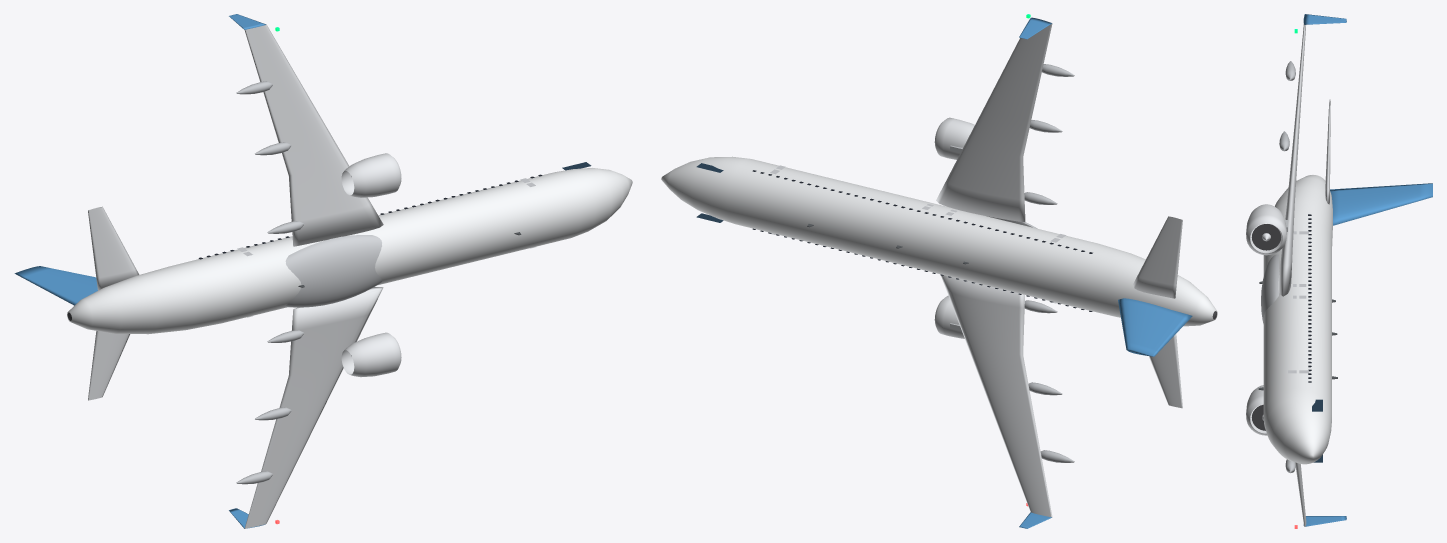
The picture shows the model from 3 angles, left to right: view 1: azimuth 30°, elevation 25°; view 2: azimuth 150°, elevation 25°; view 3: azimuth 270°, elevation 25°; orthographic projection.
Visible parts, largest first — view 1: Fuselage, Wing_R, Wing_L, BellyFairing, HStab_R, Nacelle_R, Nacelle_L, Tail_Fin, HStab_L; view 2: Fuselage, Wing_L, Wing_R, Tail_Fin, HStab_R, HStab_L, Nacelle_R, Nacelle_L; view 3: Fuselage, Tail_Fin, Wing_R, Nacelle_R, BellyFairing, Fan_R, Nacelle_L, HStab_R, Windows, Sharklet_R, Sharklet_L, Wing_L (+1 smaller).
Boxes of the visible parts, bbox=[...] form: Fuselage: bbox=[67, 168, 632, 334]; Wing_R: bbox=[244, 24, 383, 246]; Wing_L: bbox=[244, 287, 383, 528]; BellyFairing: bbox=[285, 235, 381, 307]; HStab_R: bbox=[88, 206, 139, 290]; Nacelle_R: bbox=[341, 153, 401, 197]; Nacelle_L: bbox=[341, 332, 401, 377]; Tail_Fin: bbox=[14, 266, 97, 305]; HStab_L: bbox=[88, 331, 130, 400]; Fuselage: bbox=[661, 156, 1217, 326]; Wing_L: bbox=[941, 275, 1052, 517]; Wing_R: bbox=[936, 23, 1052, 222]; Tail_Fin: bbox=[1118, 298, 1192, 356]; HStab_R: bbox=[1133, 216, 1182, 298]; HStab_L: bbox=[1148, 334, 1182, 408]; Nacelle_R: bbox=[934, 117, 974, 159]; Nacelle_L: bbox=[934, 295, 964, 338]; Fuselage: bbox=[1263, 175, 1332, 464]; Tail_Fin: bbox=[1330, 183, 1432, 225]; Wing_R: bbox=[1278, 24, 1305, 296]; Nacelle_R: bbox=[1246, 204, 1286, 255]; BellyFairing: bbox=[1261, 254, 1278, 323]; Fan_R: bbox=[1251, 224, 1280, 250]; Nacelle_L: bbox=[1246, 385, 1267, 435]; HStab_R: bbox=[1325, 99, 1330, 204]; Windows: bbox=[1308, 214, 1311, 382]; Sharklet_R: bbox=[1303, 14, 1346, 24]; Sharklet_L: bbox=[1303, 516, 1346, 526]; Wing_L: bbox=[1295, 462, 1306, 526].
Size of the model in its own units: 37.61 by 32.04 by 10.8.
